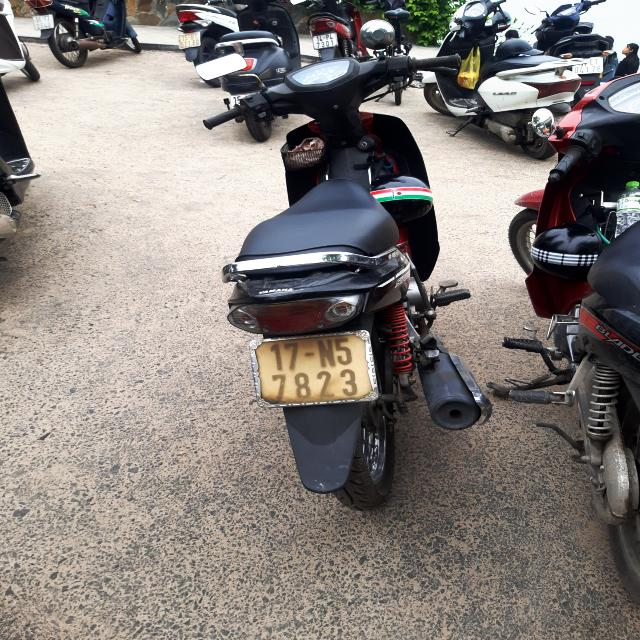license_plate: (242, 325, 390, 417), (311, 31, 341, 53), (177, 31, 203, 52), (31, 13, 58, 33)
